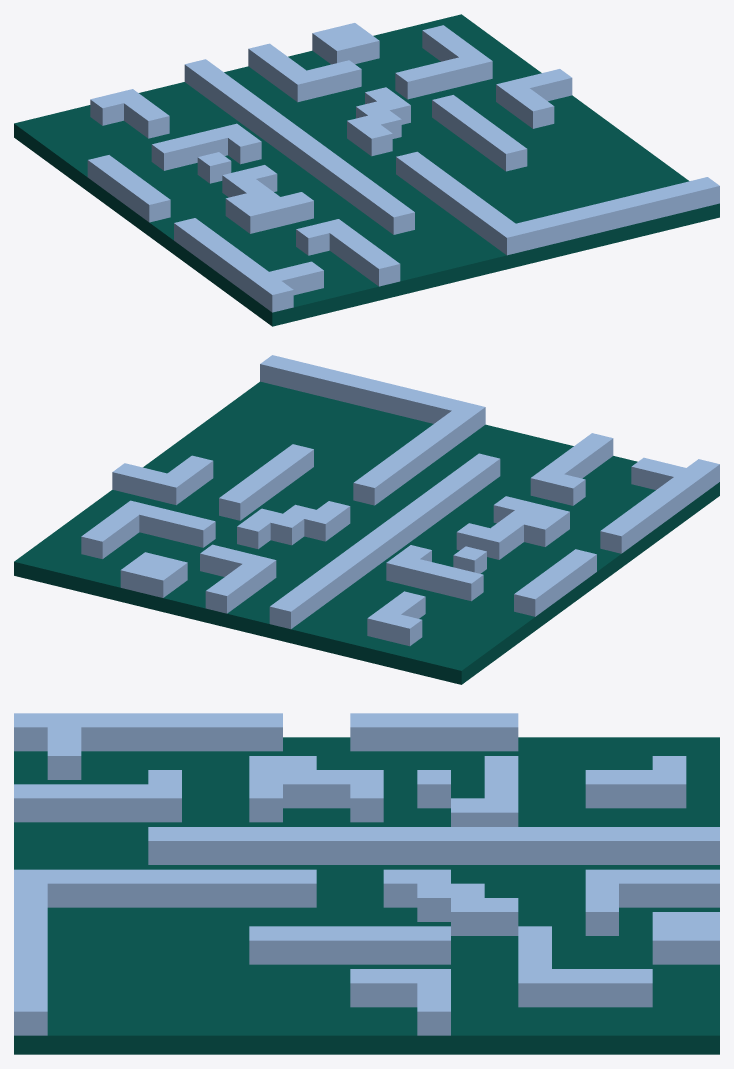
File: maze.fbx
3 views of the same model, one above another, from view 1: azimuth 30°, elevation 25°; view 2: azimuth 150°, elevation 25°; view 3: azimuth 270°, elevation 25° (orthographic). The views are drawn at different scales.
Visible parts, largest first — view 1: Maze; view 2: Maze; view 3: Maze.
Part boxes in pixels (x1=…): Maze: x1=14, y1=14, x2=719, y2=326; Maze: x1=14, y1=355, x2=719, y2=684; Maze: x1=14, y1=713, x2=719, y2=1054.
Bounding box in the file's own units: 2000 × 135 × 2000.
